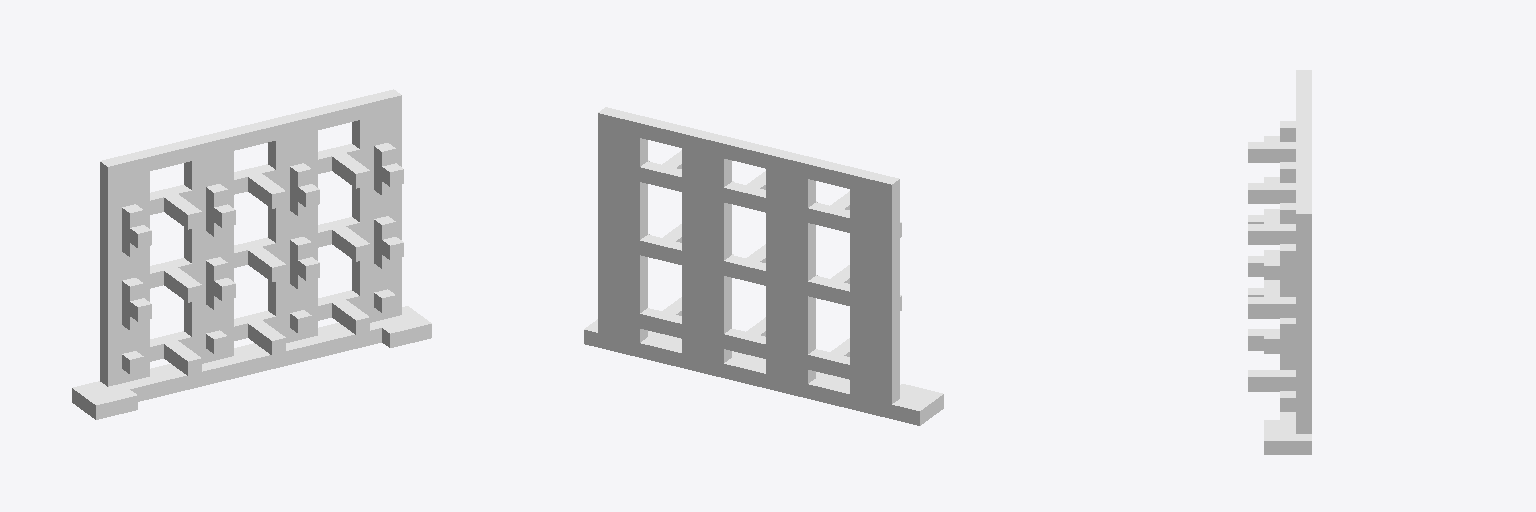
The model's file is stabside.obj.
The picture shows the model from 3 angles: view 1: azimuth 30°, elevation 25°; view 2: azimuth 150°, elevation 25°; view 3: azimuth 270°, elevation 25°; orthographic projection.
Size of the model in its own units: 24 by 16 by 4.